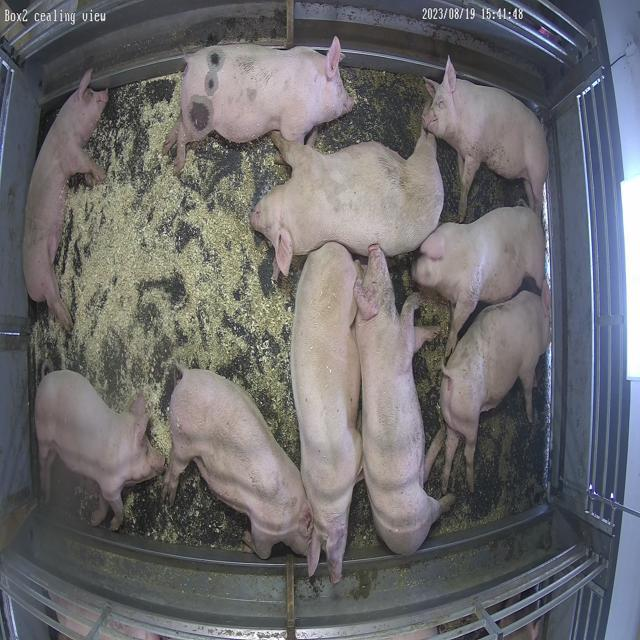Dirt: (433, 358, 551, 536), (388, 253, 451, 448), (317, 68, 430, 158), (467, 167, 528, 222), (439, 140, 461, 222), (349, 490, 379, 546)
Pig: (355, 245, 455, 556), (163, 368, 312, 560), (250, 129, 445, 274), (165, 38, 354, 170), (291, 242, 363, 584), (22, 69, 108, 330), (441, 292, 549, 492), (34, 371, 165, 532), (424, 58, 550, 220), (413, 207, 546, 356)
